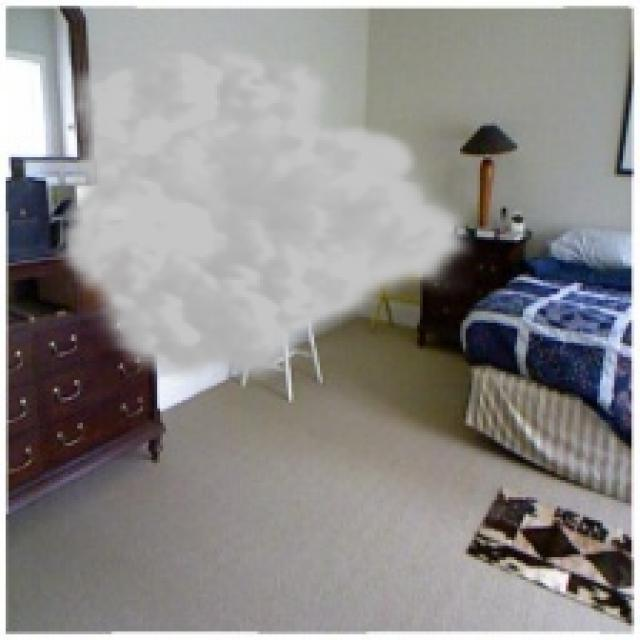Smoke: (54, 37, 480, 392)
